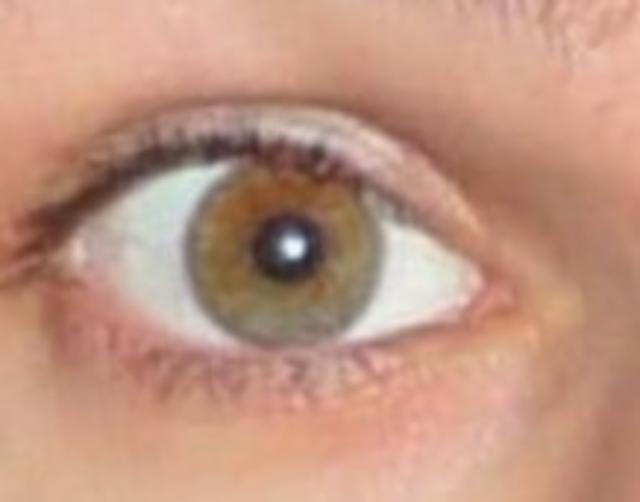eye: (183, 153, 387, 353)
